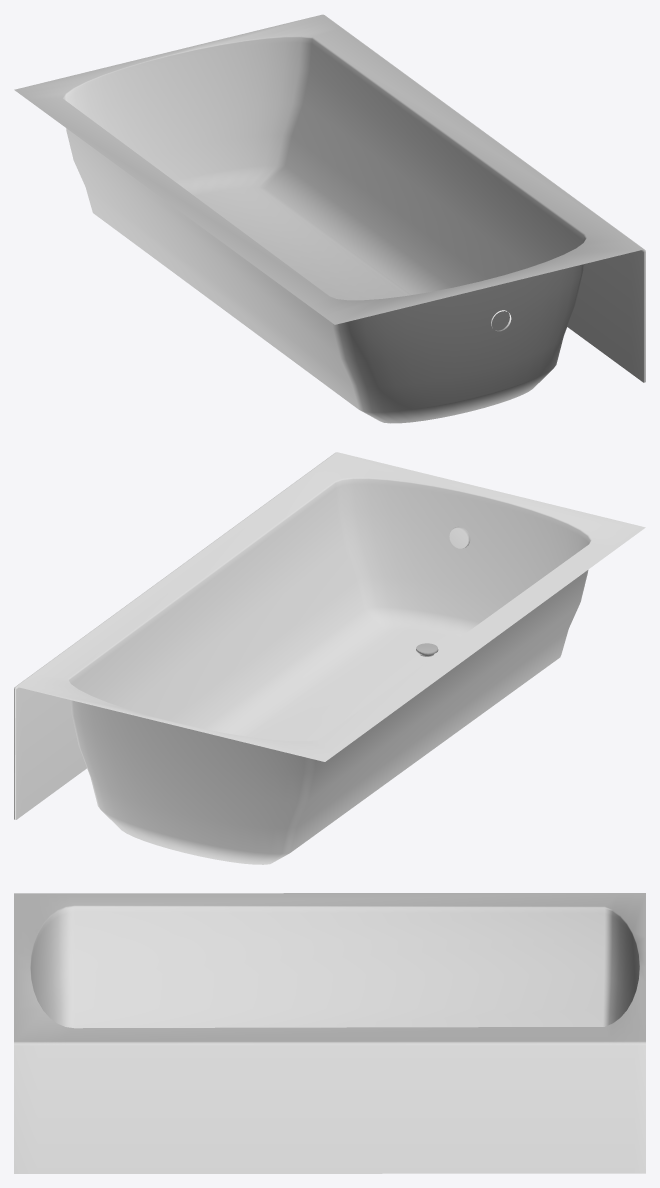
File: Bathtub_5ee7a220.obj
3 renders of one model, top to bottom at view 1: azimuth 30°, elevation 25°; view 2: azimuth 150°, elevation 25°; view 3: azimuth 270°, elevation 25°, orthographic.
Visible parts, largest first — view 1: BathtubMesh_e1a51252; view 2: BathtubMesh_e1a51252; view 3: BathtubMesh_e1a51252.
Part boxes in pixels (box(x1,y1,x2,y2)): BathtubMesh_e1a51252: box(14, 14, 645, 423); BathtubMesh_e1a51252: box(14, 452, 645, 864); BathtubMesh_e1a51252: box(14, 893, 645, 1173).
Size of the model in its own units: 1.15 by 0.4868 by 2.05.
